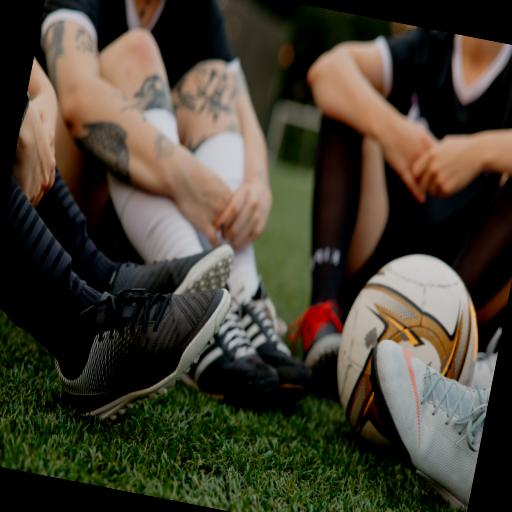shoe: (54, 289, 229, 419), (369, 340, 490, 509), (182, 301, 278, 403), (240, 286, 311, 401), (106, 244, 233, 294), (287, 300, 343, 385), (470, 328, 501, 388)
